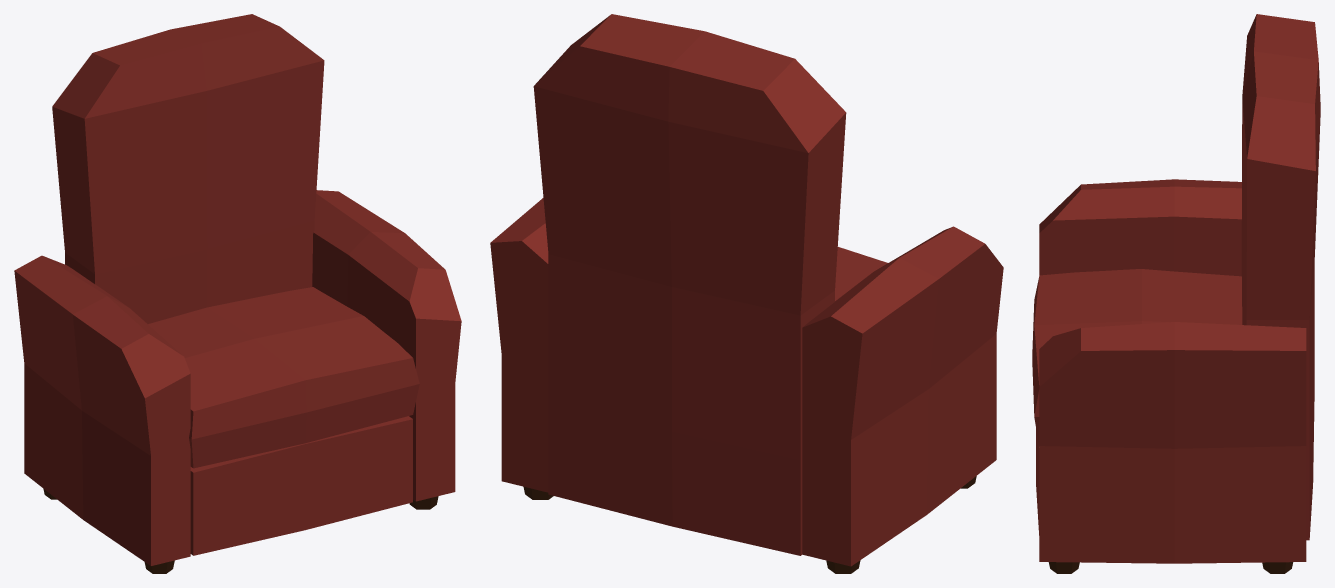
Rendered from Armchair1.glb.
3 views of the same model, side by side, from view 1: azimuth 30°, elevation 25°; view 2: azimuth 150°, elevation 25°; view 3: azimuth 270°, elevation 25° (orthographic). The views are drawn at different scales.
Parts seen in each view (by area): view 1: Armchair1; view 2: Armchair1; view 3: Armchair1.
Boxes of the visible parts, left/top/right/bottom form: Armchair1: left=14, top=14, right=461, bottom=573; Armchair1: left=490, top=14, right=1003, bottom=573; Armchair1: left=1032, top=14, right=1320, bottom=573.
Size of the model in its own units: 0.985 by 1.21 by 0.7037.
